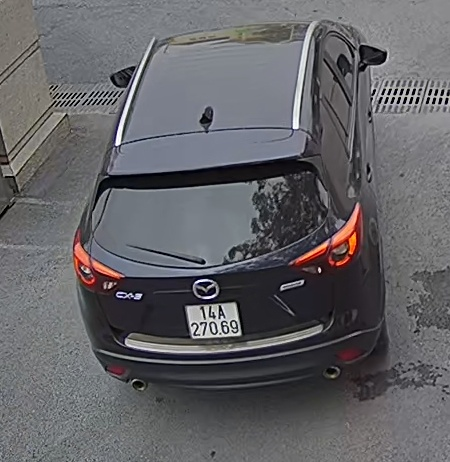vehicle plate: (181, 297, 244, 343)
